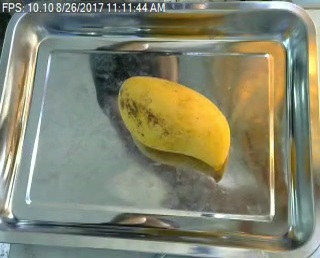Mango: (113, 74, 241, 177)
